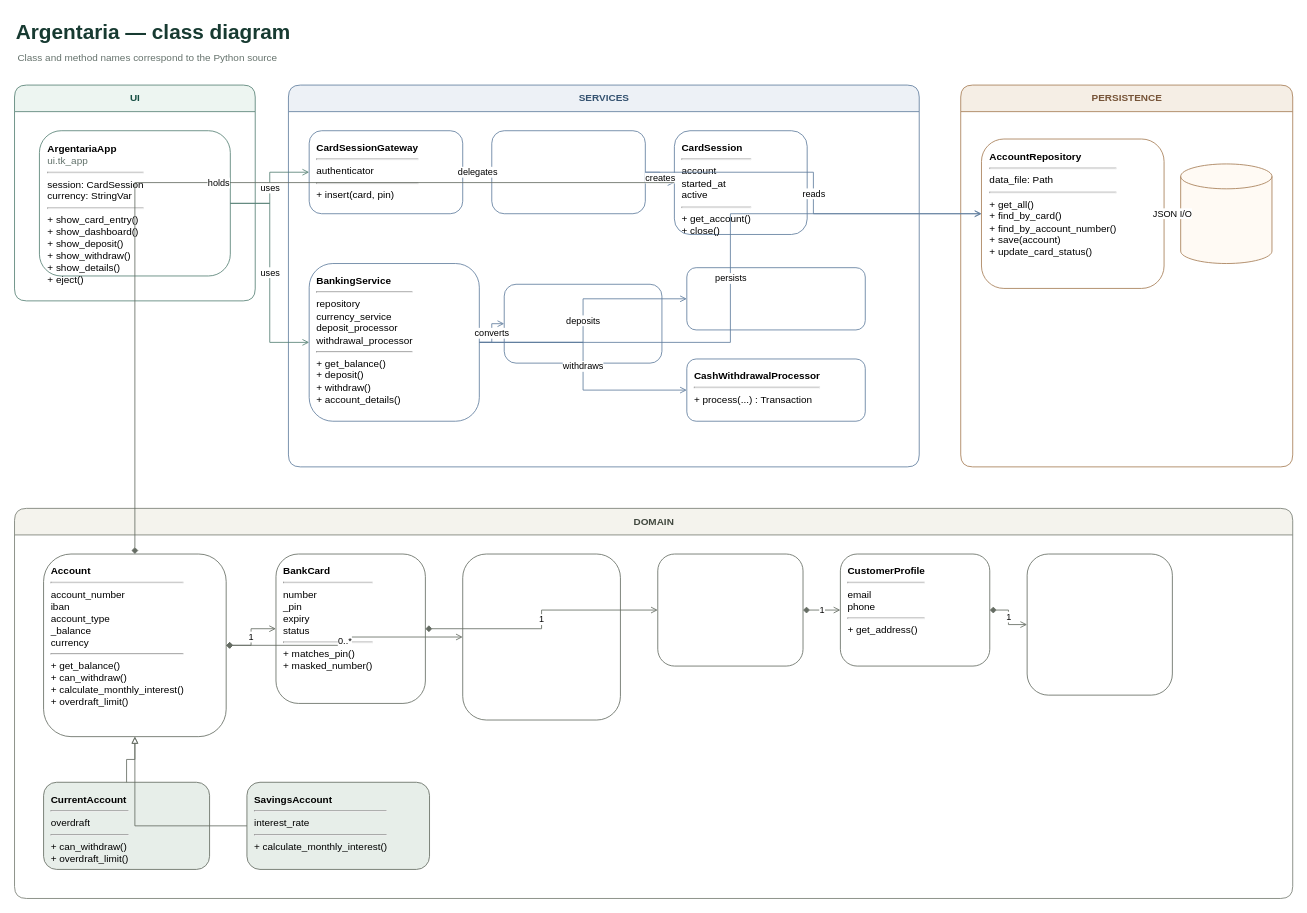
Image size: 1307x913. Some labels were removed from this diagram. The shapes that lost their labels are listed below. From the top down, each one's centre as x and y in pixels, then its label:
point 568,172: CardAuthenticator repository + authenticate(card, pin)
point 1226,213: accounts.json mock account store
point 775,298: CashDepositProcessor + process(...) : Transaction
point 582,323: CurrencyService + convert(amount, currency) + label_for(currency)
point 730,609: Customer customer_id full_name + get_profile()
point 1099,624: Address street city postal_code country + formatted()
point 541,636: Transaction transaction_id kind amount balance_after timestamp note + as_dict()
